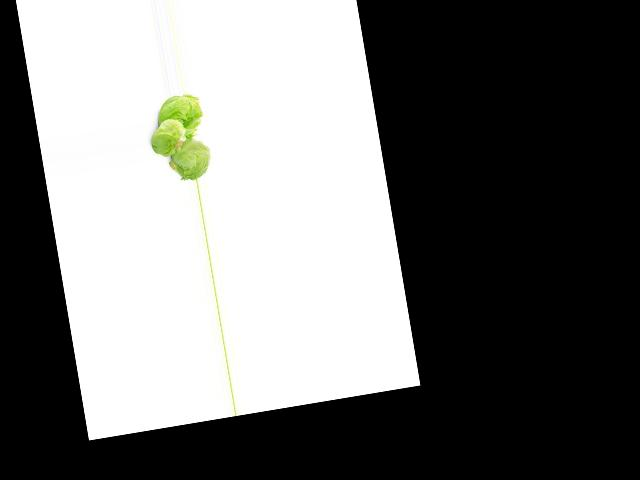lettuce: (157, 94, 202, 136)
